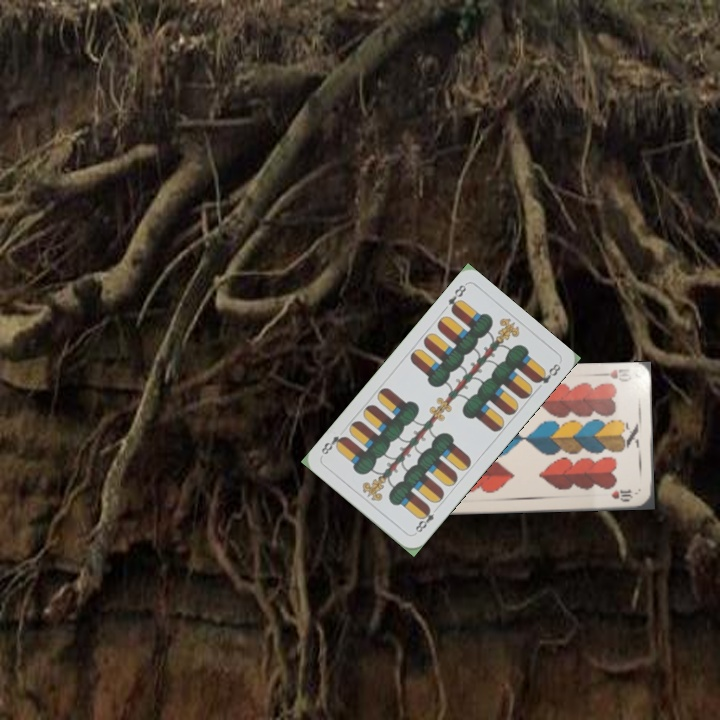E8: (410, 503, 441, 537), (444, 280, 469, 315)
H10: (594, 365, 634, 384)
